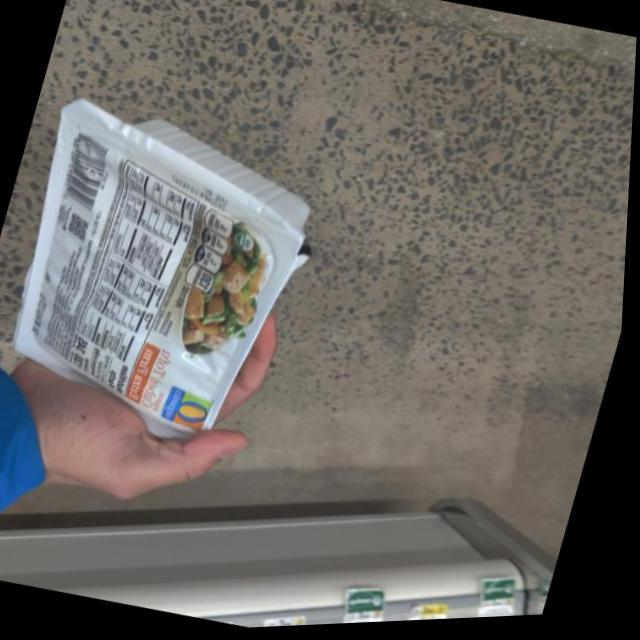Tofu: (0, 51, 333, 477)
